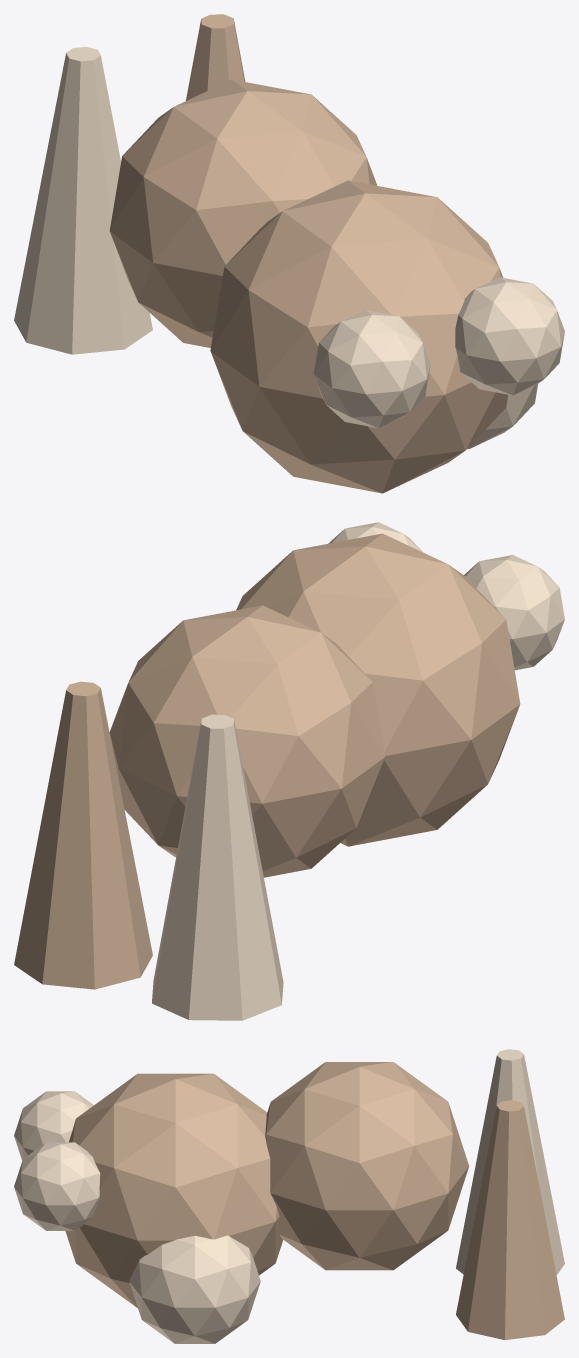
The model's file is buneary.glb.
3 renders of one model, top to bottom at view 1: azimuth 30°, elevation 25°; view 2: azimuth 150°, elevation 25°; view 3: azimuth 270°, elevation 25°, orthographic. The views are drawn at different scales.
Visible parts, largest first — view 1: body, head, earL, footL, footR, earR, puff; view 2: head, body, earR, earL, footL, footR; view 3: head, body, earR, puff, footR, earL, footL.
Part boxes in pixels (x1,y1,x2,y2): body: [210, 180, 508, 493]; head: [109, 79, 377, 347]; earL: [14, 46, 152, 354]; footL: [313, 310, 430, 428]; footR: [455, 277, 564, 395]; earR: [186, 14, 245, 100]; puff: [467, 384, 537, 449]; head: [109, 605, 384, 877]; body: [236, 533, 520, 846]; earR: [14, 681, 152, 989]; earL: [152, 714, 283, 1020]; footL: [464, 555, 564, 670]; footR: [328, 522, 422, 552]; head: [265, 1062, 469, 1270]; body: [65, 1073, 282, 1308]; earR: [456, 1100, 564, 1340]; puff: [129, 1235, 260, 1343]; footR: [14, 1142, 100, 1230]; earL: [456, 1049, 564, 1275]; footL: [14, 1091, 93, 1160].
Size of the model in its own units: 1.01 by 0.95 by 2.01.
